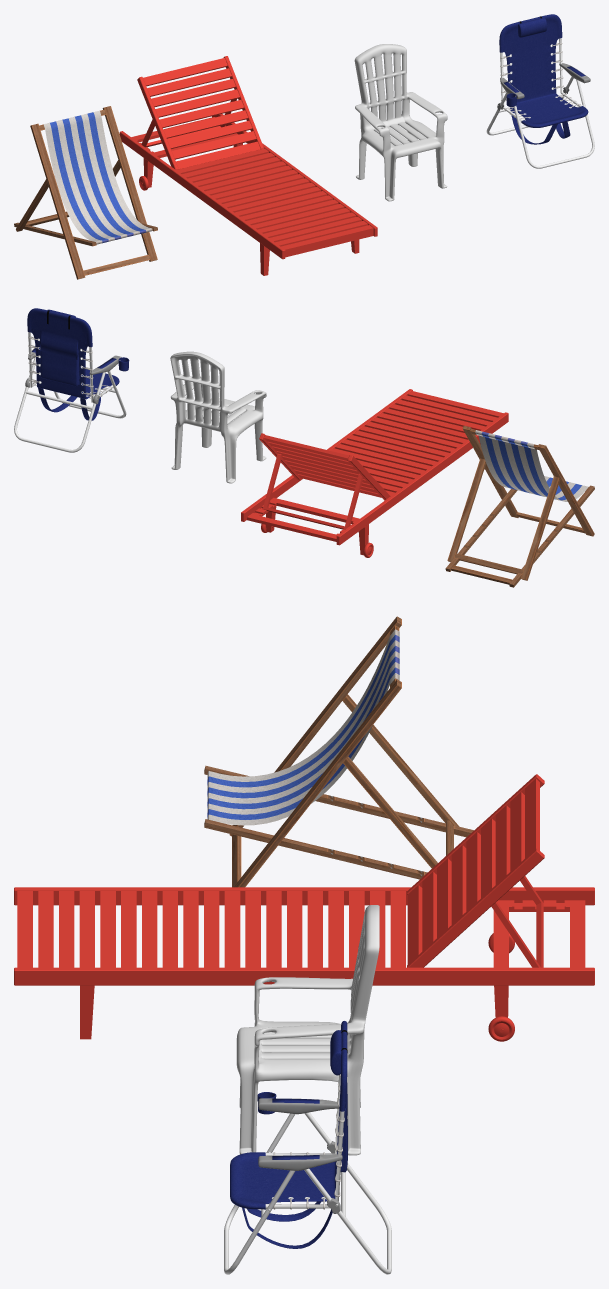
File: Chair_Pack.fbx
3 renders of one model, top to bottom at view 1: azimuth 30°, elevation 25°; view 2: azimuth 150°, elevation 25°; view 3: azimuth 270°, elevation 25°, orthographic. The views are drawn at different scales.
Parts seen in each view (by area): view 1: Cube.008, Cube.019, Plane, Cube.009, Cube.023, Cube.001, Cube.007, Cube.010, Cube.033, Cube.024, Cube.011, Cube.006 (+7 smaller); view 2: Cube.008, Cube.019, Cube.023, Plane, Cube.007, Cube.009, Cube.006, Cube.001, Cube.004, Cube.033, Cube.034, Cube.018 (+7 smaller); view 3: Cube.008, Cube.007, Cube.019, Cube.009, Plane, Cube.023, Cube.001, Cube.004, Cube.010, Cube.033, Cube.006, Cube.024 (+5 smaller).
Boxes of the visible parts, x1,y1,x2,y2 form: Cube.008: (176,148,373,252); Cube.019: (354,44,447,201); Plane: (43,110,152,244); Cube.009: (143,58,260,169); Cube.023: (499,14,588,127); Cube.001: (30,106,157,279); Cube.007: (119,114,377,259); Cube.010: (137,56,263,169); Cube.033: (486,77,594,168); Cube.024: (500,63,590,99); Cube.011: (285,231,373,257); Cube.006: (16,160,120,231); Cube.008: (330,391,503,495); Cube.019: (170,351,266,483); Cube.023: (27,308,119,399); Plane: (475,430,588,501); Cube.007: (241,389,508,545); Cube.009: (264,435,381,497); Cube.006: (447,458,560,580); Cube.001: (462,425,594,536); Cube.004: (445,485,594,587); Cube.033: (14,357,126,452); Cube.034: (40,349,79,386); Cube.018: (263,454,362,529); Cube.008: (17,891,405,967); Cube.007: (14,887,594,985); Cube.019: (236,905,379,1155); Cube.009: (407,779,539,964); Plane: (207,629,399,825); Cube.023: (230,1021,347,1209); Cube.001: (229,616,401,887); Cube.004: (204,765,473,879); Cube.010: (407,774,544,967); Cube.033: (224,1112,391,1274); Cube.006: (342,694,458,868); Cube.024: (258,1098,342,1170).
Bounding box in the file's own units: 515 × 115 × 279.
